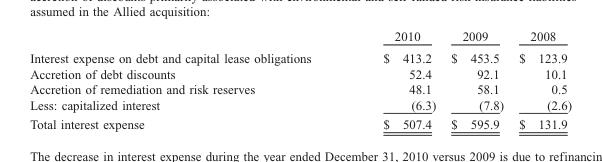table: (29, 28, 570, 130)
table column: (29, 28, 346, 130), (346, 28, 442, 130), (442, 28, 510, 130), (510, 28, 570, 130)
table column header: (29, 28, 570, 47)
table row: (29, 28, 570, 47), (29, 47, 570, 65), (29, 96, 570, 114), (29, 65, 570, 81), (29, 114, 570, 130), (29, 81, 570, 96)
